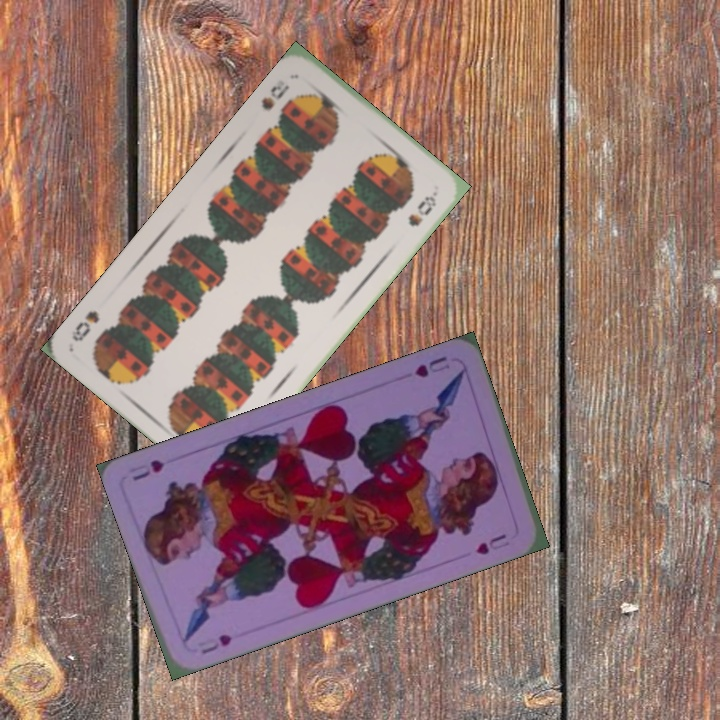HU: (411, 352, 453, 380), (197, 630, 234, 657)
S8: (257, 81, 293, 113)
